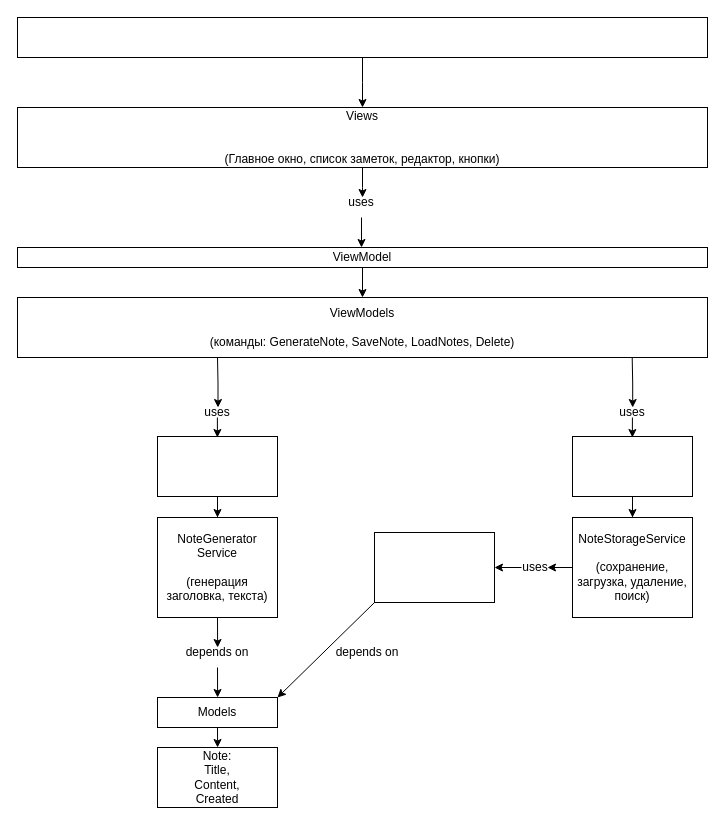
Some shapes in this 725 by 825 pixel diagram are drawn without their labels. The centre of each missing label's shape, as x and y in pixels:
"JsonStorage (низкоуровневая работа с JSON-файлом)" belongs at (434,567).
"Services" belongs at (632,466).
"Sevices" belongs at (217,466).
"UI" belongs at (362,37).
